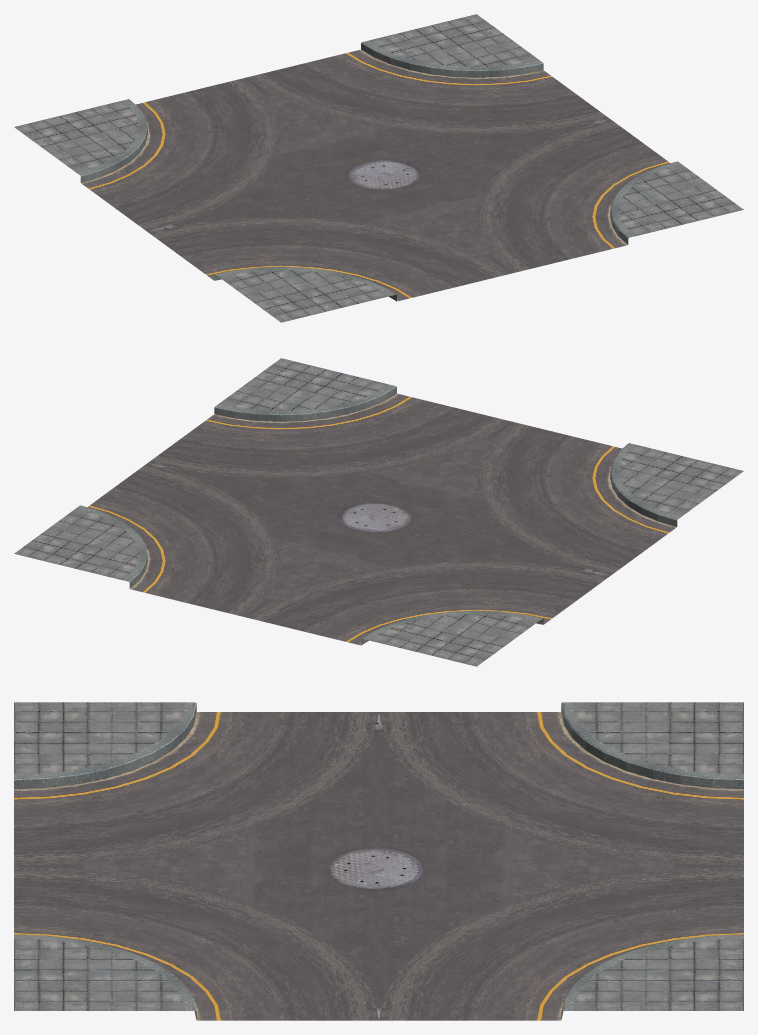
File: road01.obj
The picture shows the model from 3 angles, top to bottom: view 1: azimuth 30°, elevation 25°; view 2: azimuth 150°, elevation 25°; view 3: azimuth 270°, elevation 25°; orthographic projection. The views are drawn at different scales.
Parts seen in each view (by area): view 1: Plane.005_Plane.018; view 2: Plane.005_Plane.018; view 3: Plane.005_Plane.018.
Part boxes in pixels (left/top/right/bottom): Plane.005_Plane.018: left=14, top=14, right=743, bottom=322; Plane.005_Plane.018: left=14, top=358, right=743, bottom=666; Plane.005_Plane.018: left=14, top=702, right=743, bottom=1020.
Bounding box in the file's own units: 2.29 × 0.0336 × 2.29.
Materials: 6 (5 with a texture image).
